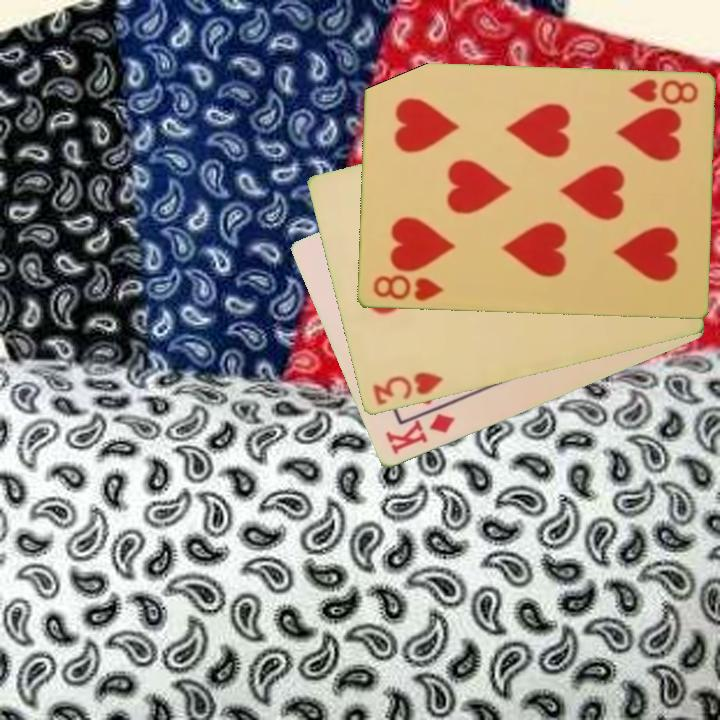3h: (368, 369, 446, 409)
8h: (369, 272, 446, 305), (625, 75, 701, 108)
Kd: (382, 410, 458, 458)
